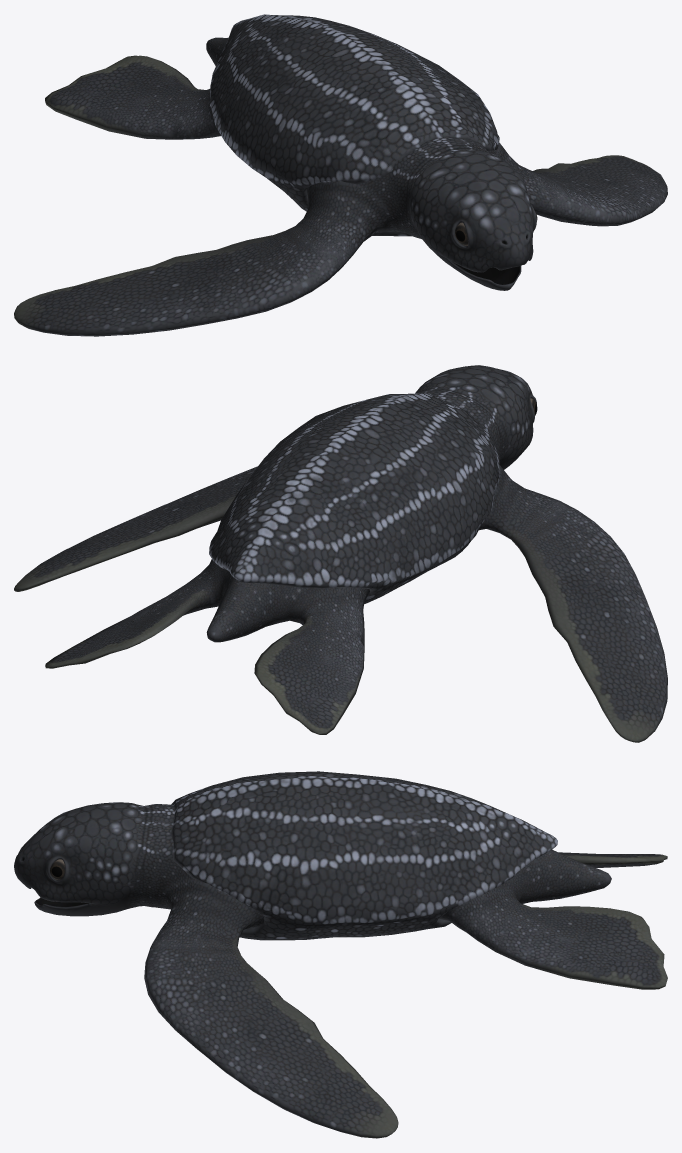
The model's file is tortuga.glb.
3 views of the same model, one above another, from view 1: azimuth 30°, elevation 25°; view 2: azimuth 150°, elevation 25°; view 3: azimuth 270°, elevation 25° (orthographic). The views are drawn at different scales.
Parts seen in each view (by area): view 1: LeatherbackTurtle_Baby.015; view 2: LeatherbackTurtle_Baby.015; view 3: LeatherbackTurtle_Baby.015.
Part boxes in pixels (x1,y1,x2,y2): LeatherbackTurtle_Baby.015: (14,14,667,336); LeatherbackTurtle_Baby.015: (14,365,667,742); LeatherbackTurtle_Baby.015: (14,771,667,1138).
Bounding box in the file's own units: 5.25 × 1.76 × 4.9.
1 material, 1 textured.
